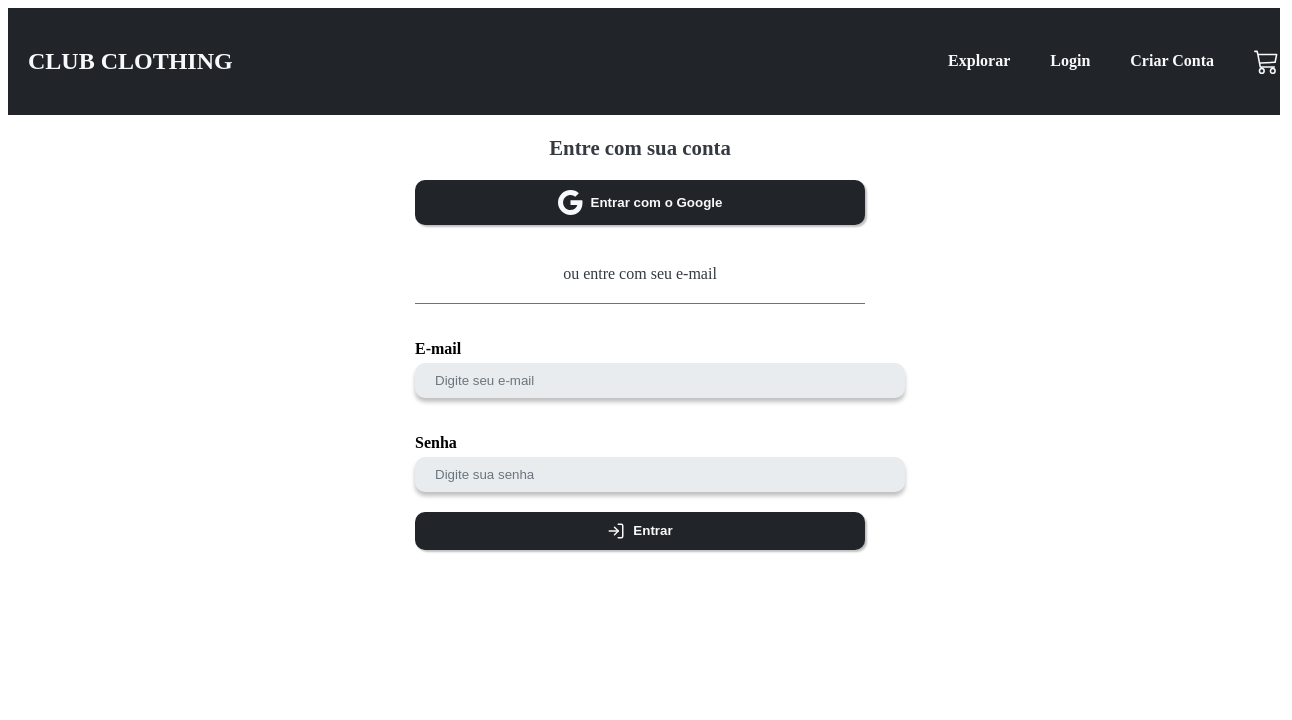
Test: Login › should show error if email is invalid
Step 1. Type "invalid_email" into the field with placeholder "Digite seu e-mail" → [660, 380], box [415,363,905,398]
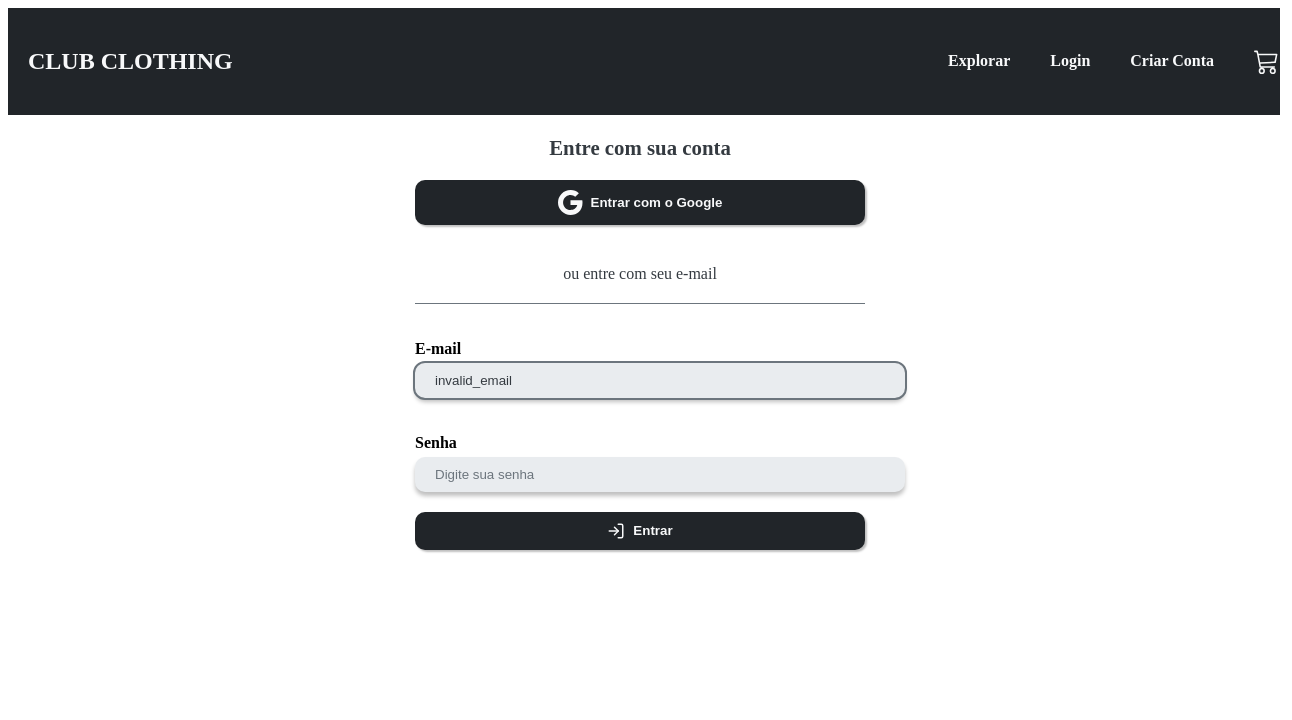
Step 2. Click the button "Entrar" → [640, 531], box [415,512,865,550]
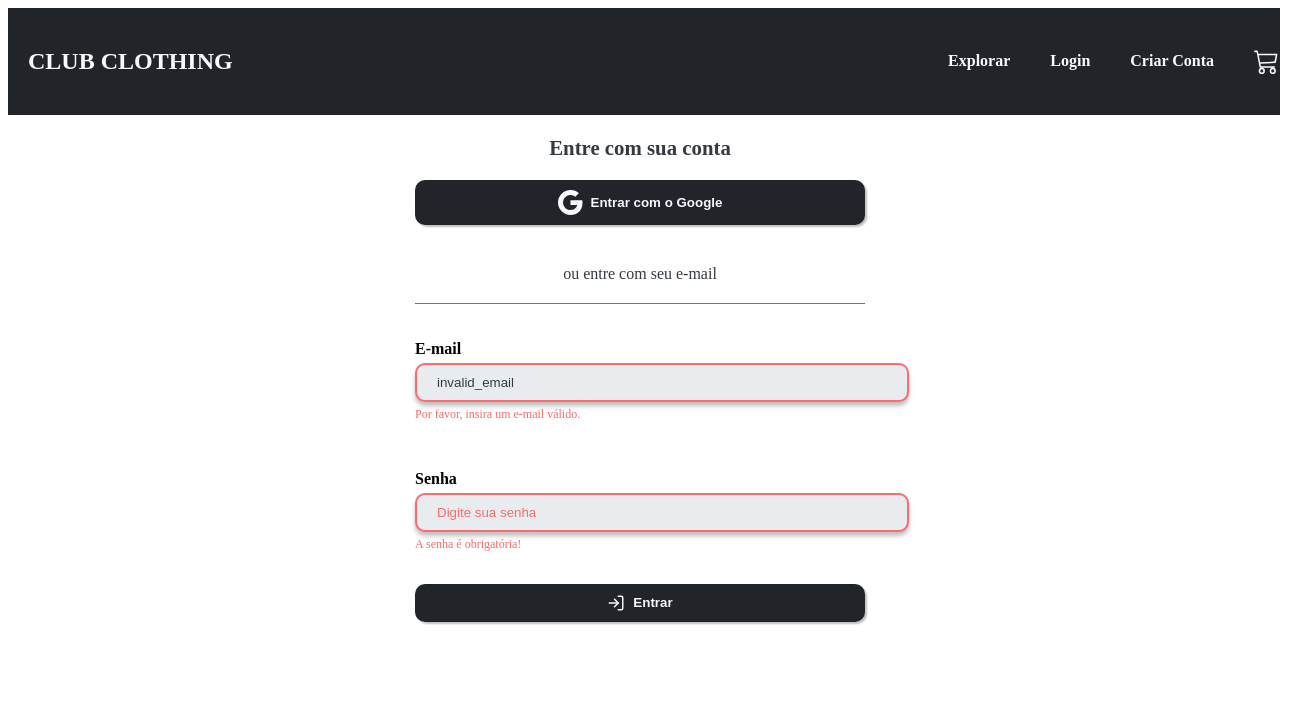
Now the text "Por favor, insira um e-mail válido." is shown, box [415,407,580,421]
